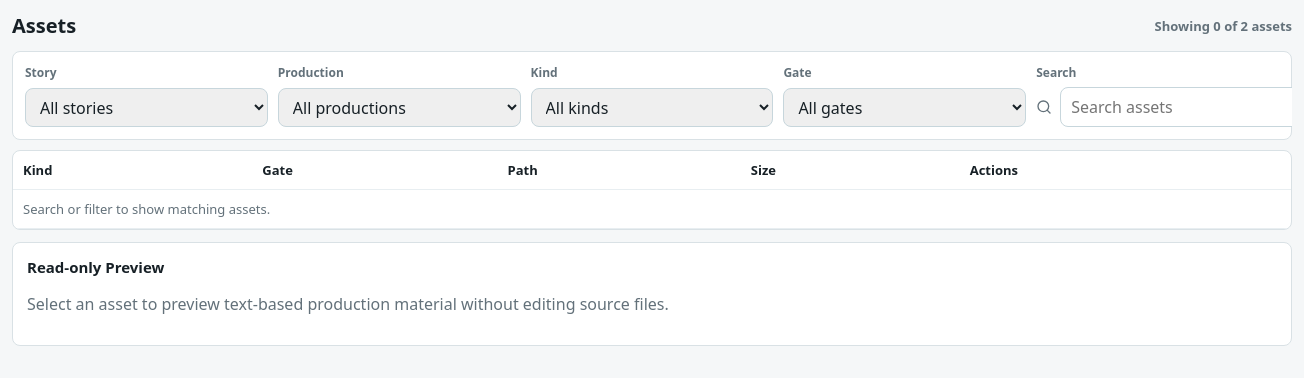
AssetBrowser › filters assets by story before production filtering
The width and height of the screenshot is (1304, 378).
Select "story-a" in the dropdown labelled "Story". click: (146, 108)
box: [25,88,268,127]
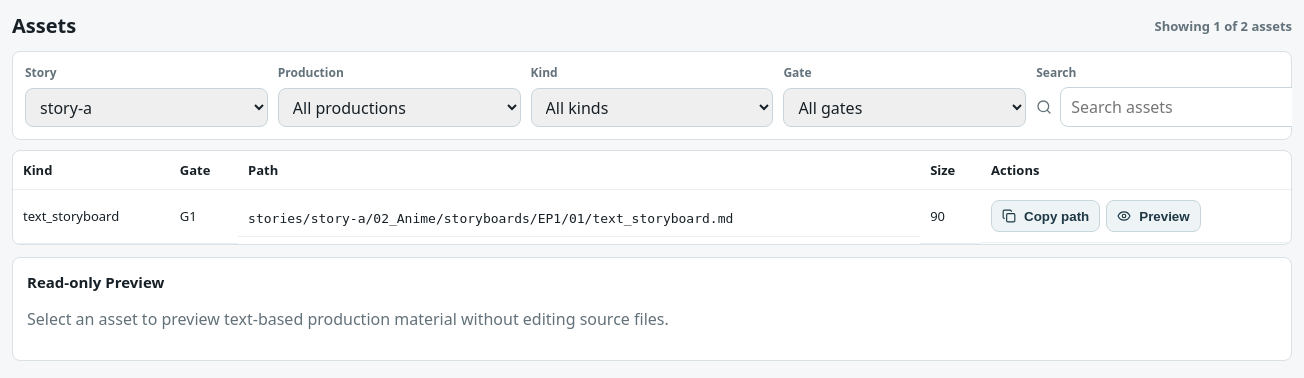
Check: the text "Showing 1 of 2 assets" is shown, box [1155,16,1292,34]
Check: the text "stories/story-a/02_Anime/storyboards/EP1/01/text_storyboard.md" is shown, box [248,211,733,226]
